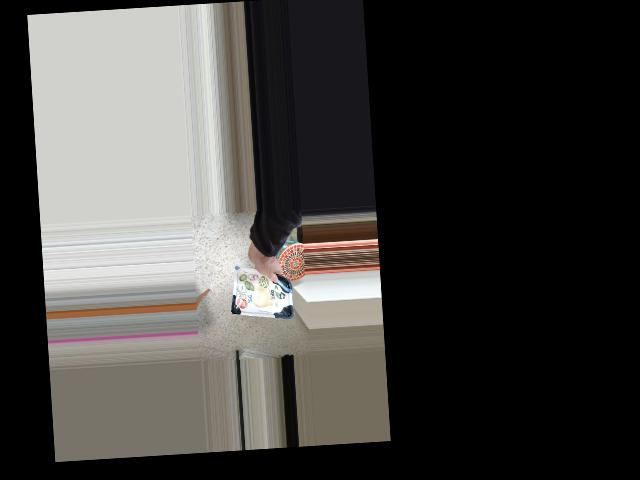cheese: (229, 254, 281, 306)
